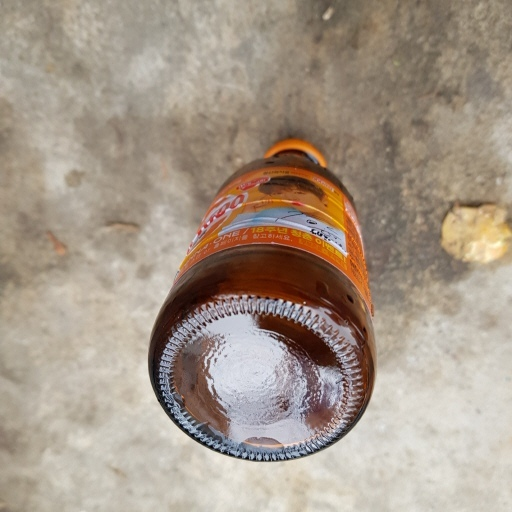Glass_3: (140, 137, 375, 461)
